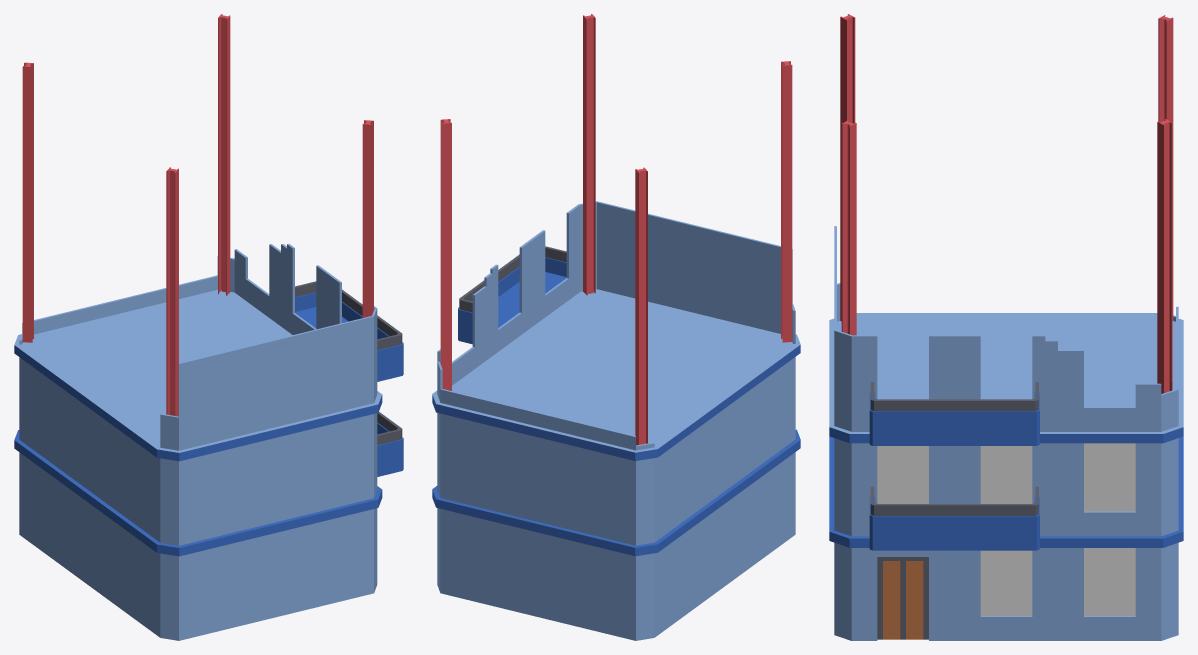
The picture shows the model from 3 angles, left to right: view 1: azimuth 30°, elevation 25°; view 2: azimuth 150°, elevation 25°; view 3: azimuth 270°, elevation 25°; orthographic projection. The views are drawn at different scales.
Parts seen in each view (by area): view 1: Predio 8 A.001; view 2: Predio 8 A.001; view 3: Predio 8 A.001.
Boxes of the visible parts, x1,y1,x2,y2 form: Predio 8 A.001: [14, 14, 403, 640]; Predio 8 A.001: [432, 14, 800, 640]; Predio 8 A.001: [829, 14, 1183, 640].
Size of the model in its own units: 5694 by 9868 by 6180.
